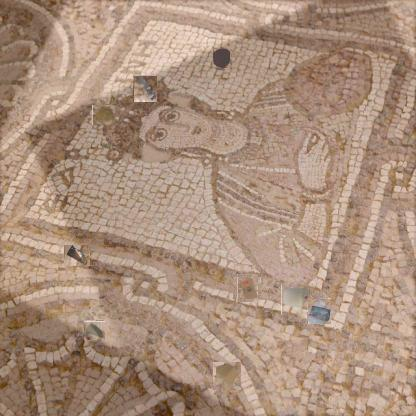dirty: (281, 284, 308, 314), (213, 362, 241, 390), (133, 75, 157, 102), (307, 298, 331, 324), (235, 276, 259, 301), (65, 244, 89, 268), (84, 321, 105, 341)
liquid: (93, 105, 115, 126), (214, 50, 232, 70)
